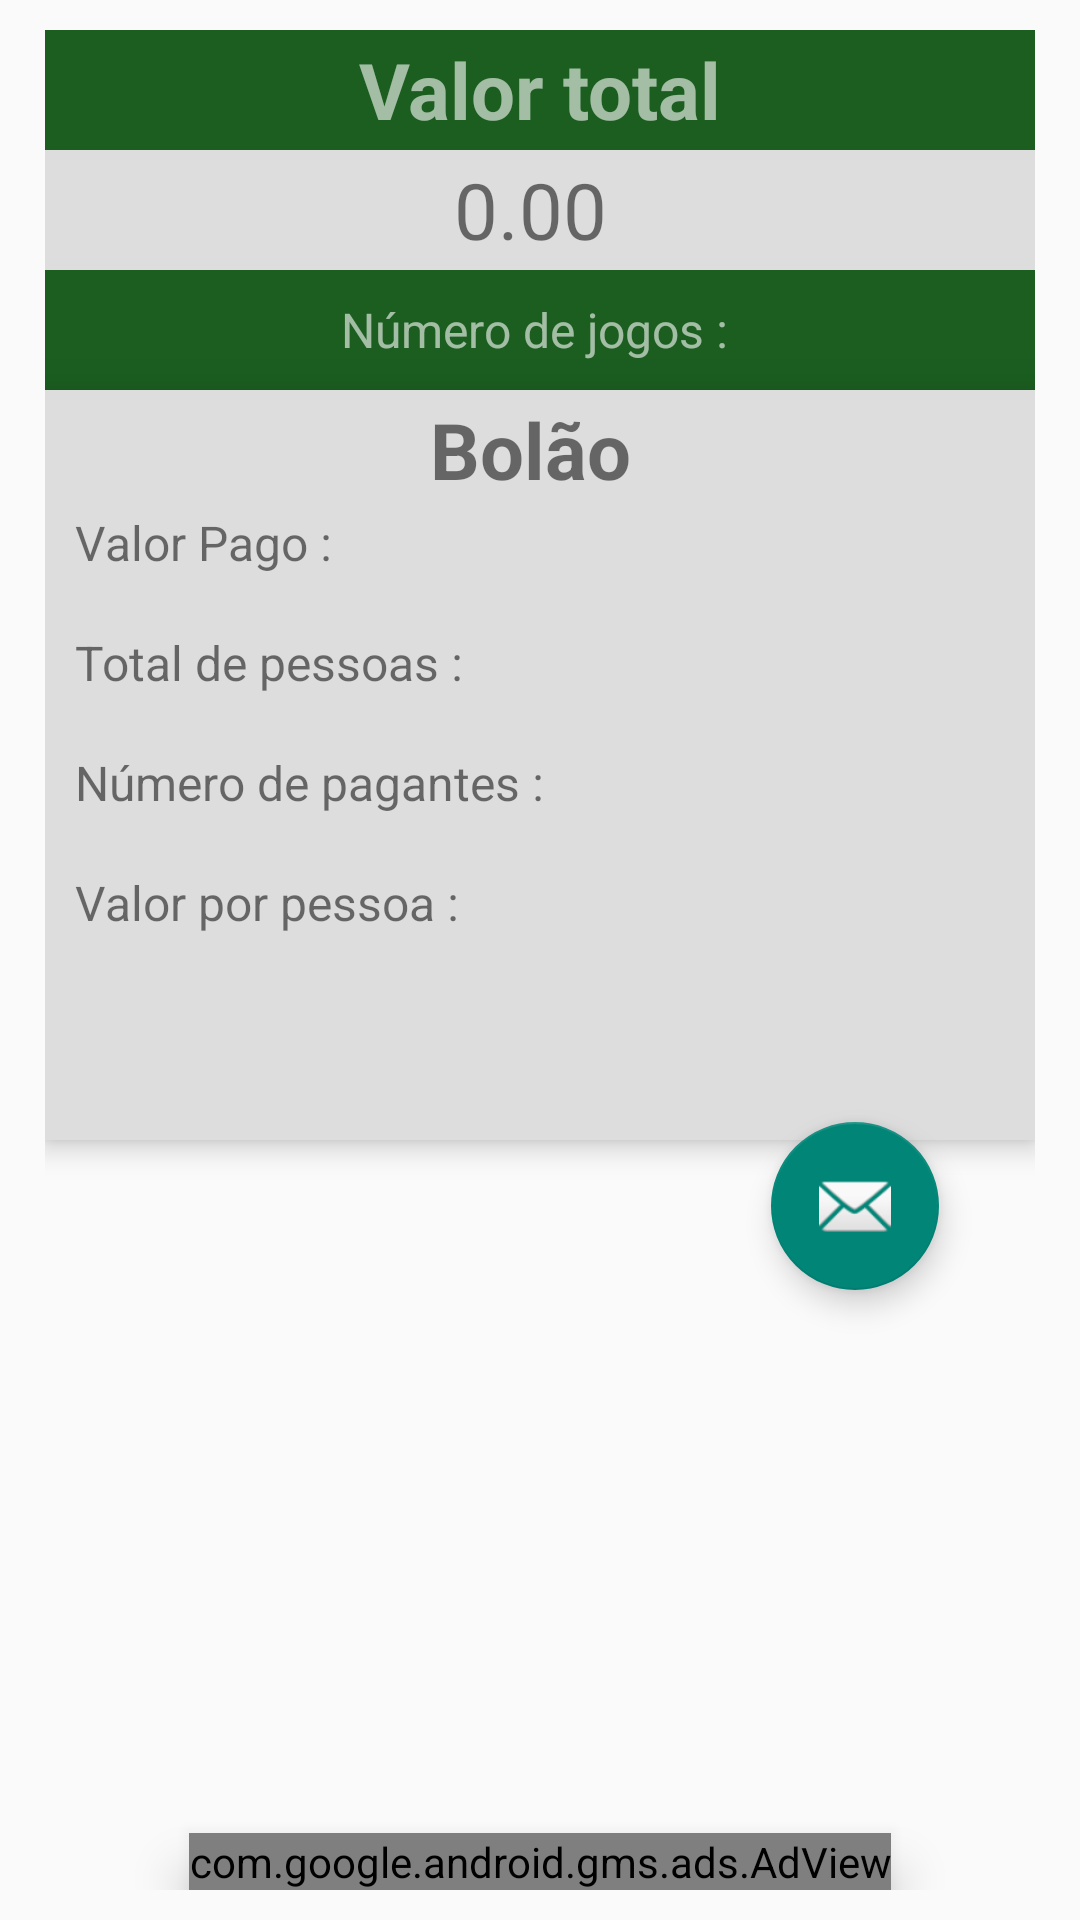

Icons on this 1080px×1920px Android screen, each with the point to tap as point (x, y):
email: point (855, 1206)
